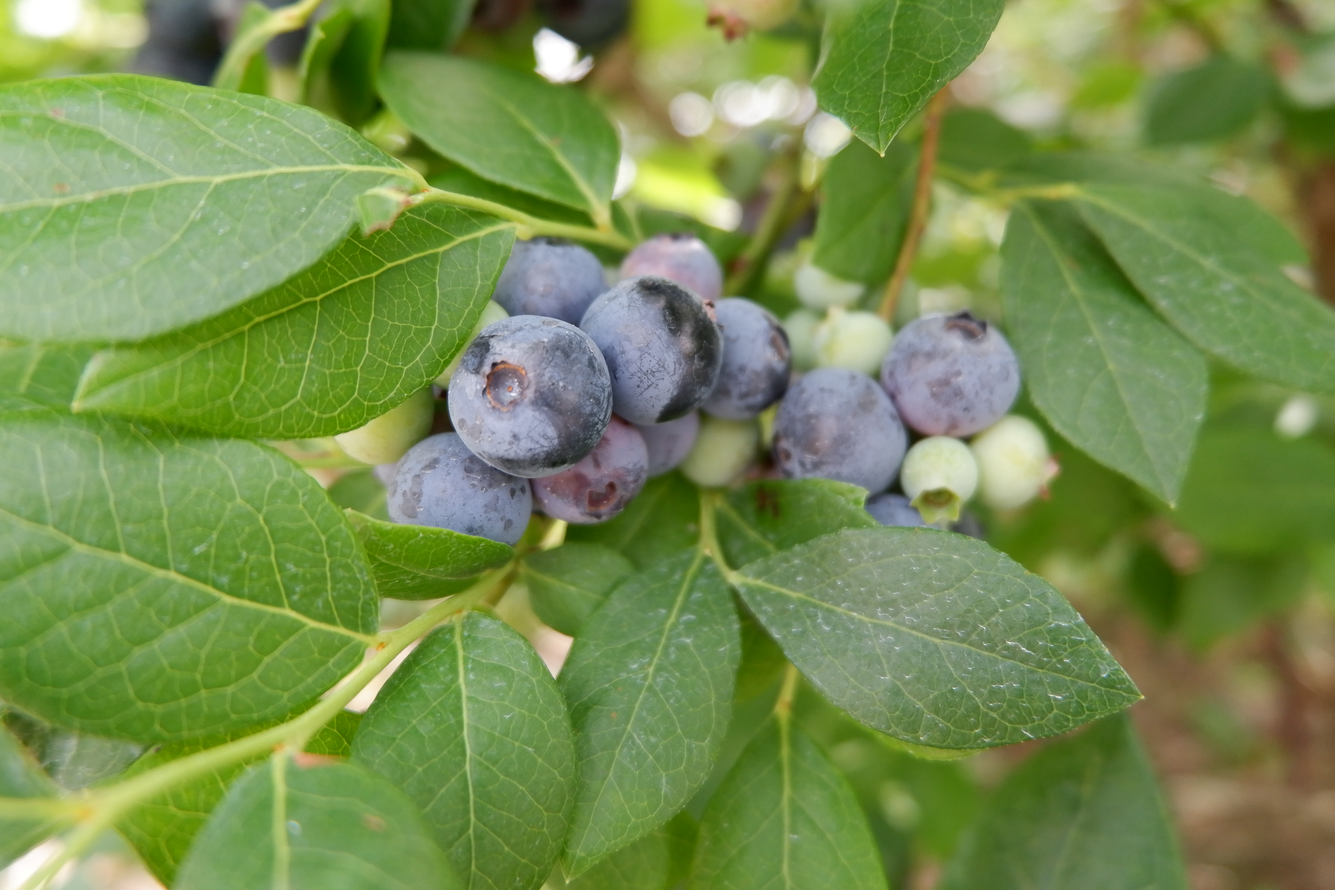Immature: (970, 417, 1058, 508), (335, 388, 434, 464), (431, 300, 507, 391), (680, 412, 763, 487), (904, 438, 975, 520)
Mature: (447, 316, 609, 472), (584, 276, 719, 421), (380, 435, 529, 543), (886, 315, 1019, 435), (776, 368, 907, 489), (532, 418, 644, 522), (706, 300, 792, 416), (496, 238, 608, 326), (621, 236, 720, 301), (632, 410, 695, 477), (864, 482, 924, 526)
